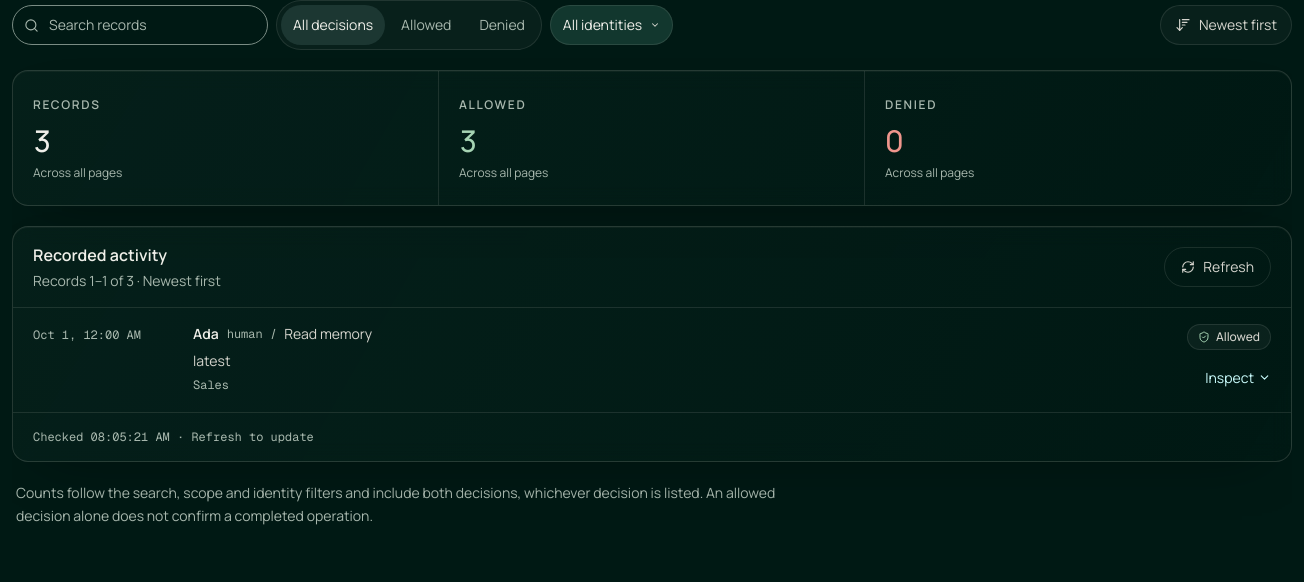
Scenario: access log search and order › sends the search to the server after a pause and says how many records matched
Expected: the button with aria-label "Inspect event latest" is shown, [1205, 362, 1271, 394]
Type " acme " into the search field labelled "Search records". click: (140, 25)
box: [12, 5, 268, 45]
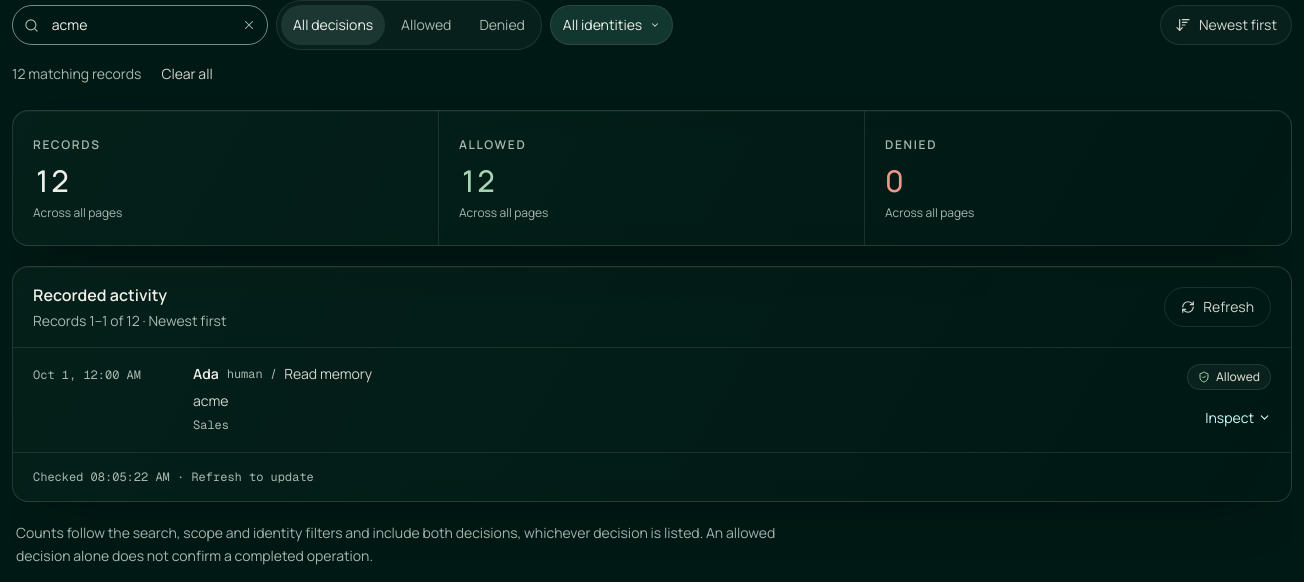
Expected: the button with aria-label "Inspect event acme" is shown, [1205, 402, 1271, 434]
Expected: the text "acme" is shown, [193, 390, 228, 410]
